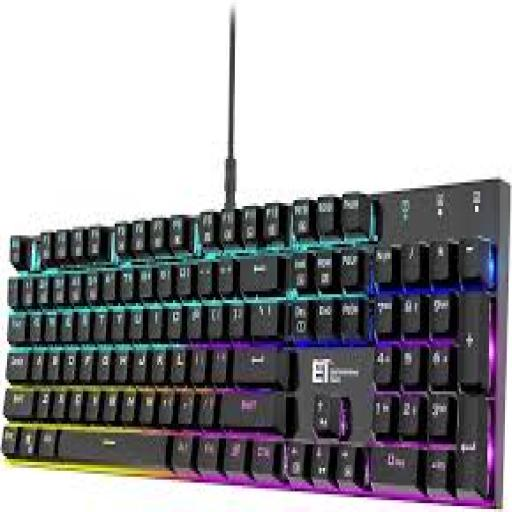keyboard: (0, 179, 510, 506)
